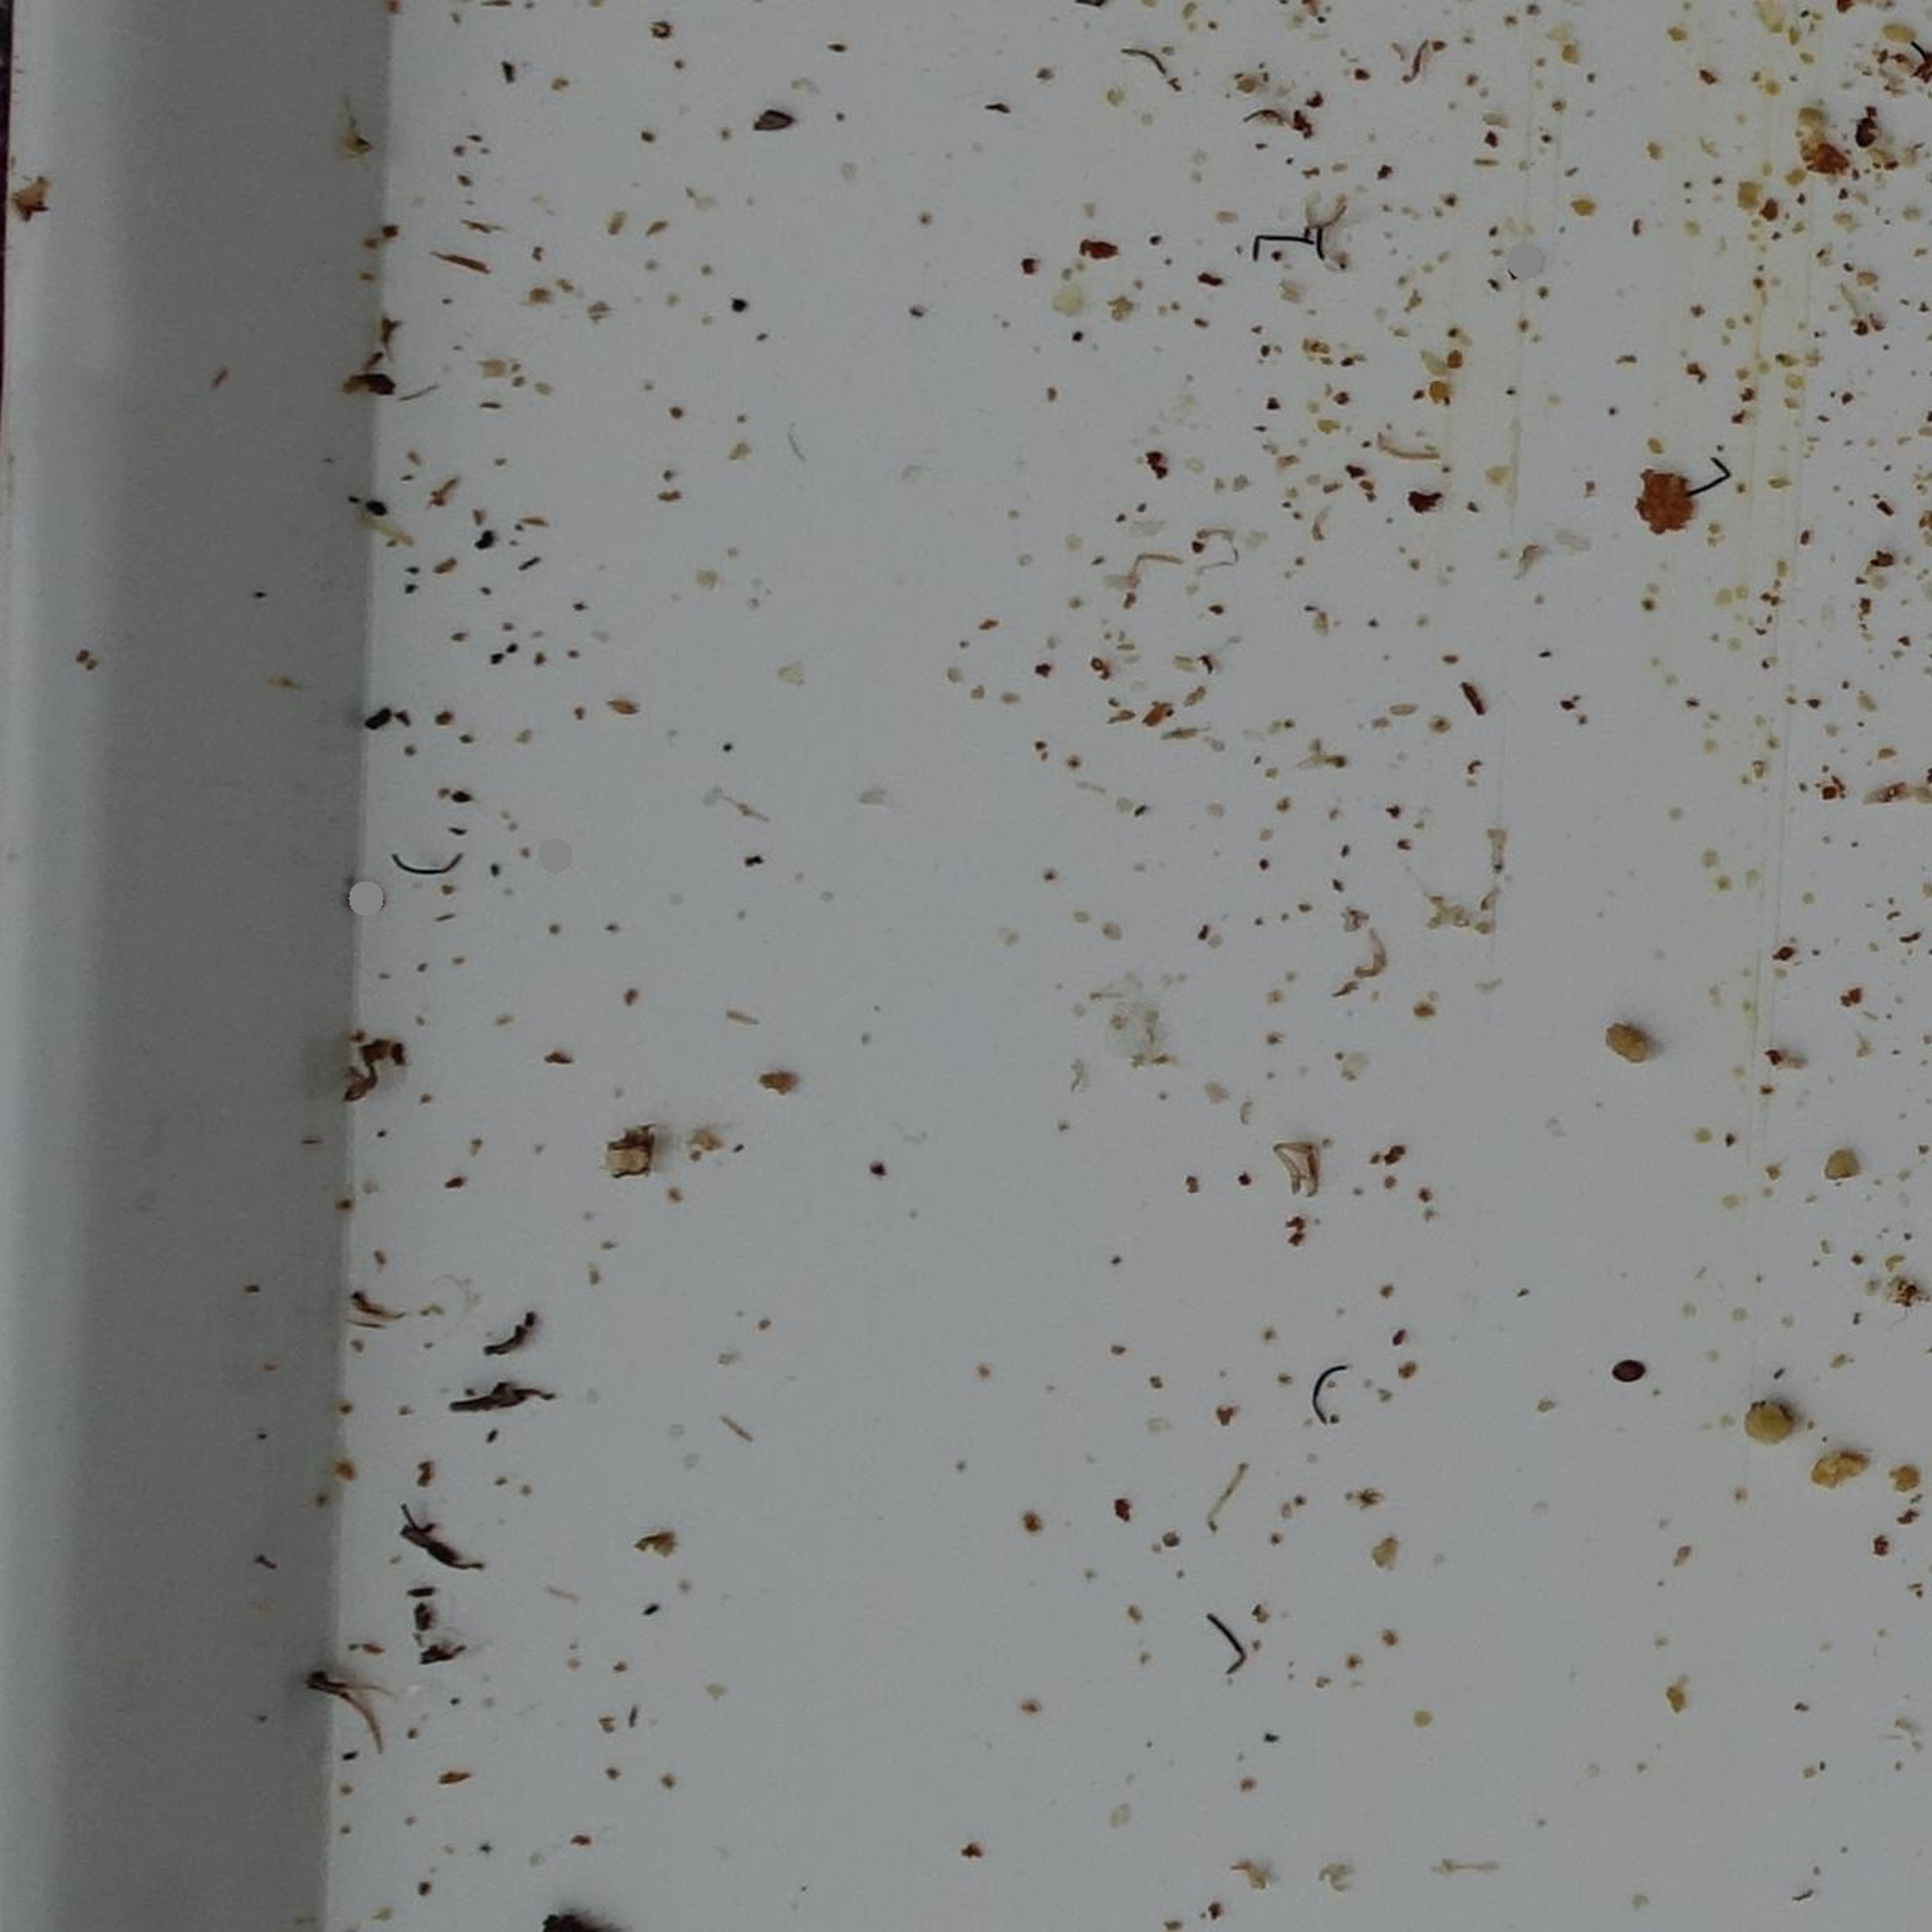Varroa: (1615, 1359, 1645, 1384), (1854, 119, 1881, 143)
